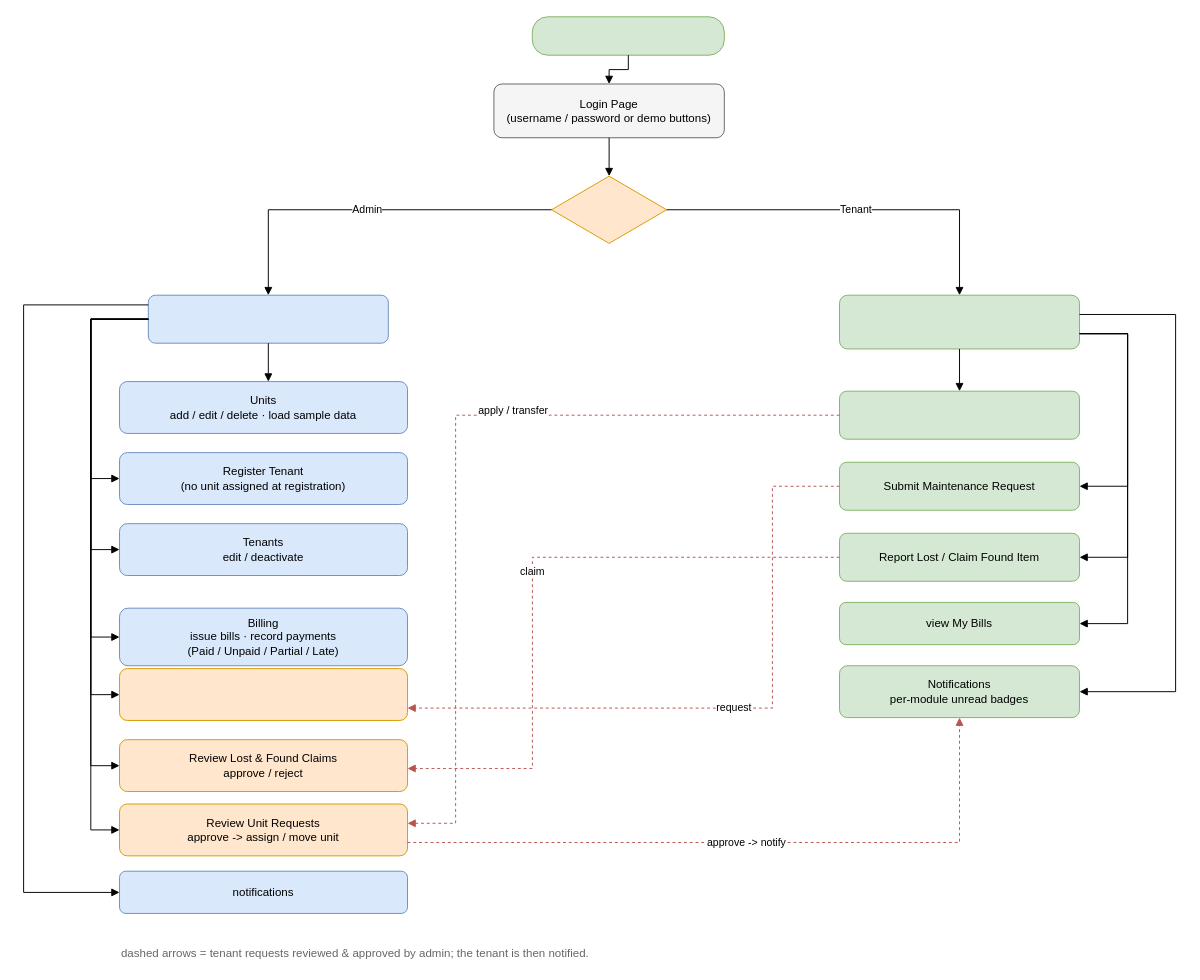
The diagram is 1200 pixels wide and 980 high, and some of its shapes have lost their labels. The box of each missing label's shape, as (x1, y1, x2, y2) in pixels:
Admin Dashboard: (147, 294, 388, 343)
Apply for a Unit / Request Transfer: (839, 390, 1080, 439)
Open App: (531, 16, 724, 55)
Review Maintenance update status: (119, 668, 408, 720)
Role?: (551, 175, 667, 243)
Tenant Dashboard / Profile (upload photo): (839, 294, 1080, 349)
